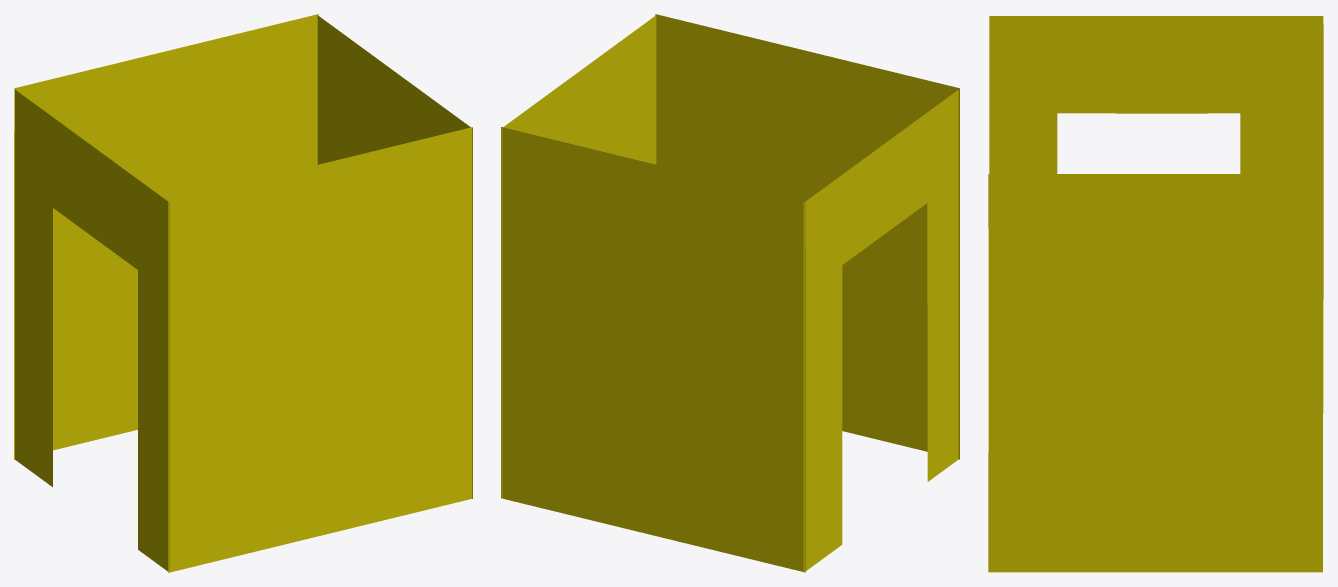
3 views of the same model, side by side, from view 1: azimuth 30°, elevation 25°; view 2: azimuth 150°, elevation 25°; view 3: azimuth 270°, elevation 25° (orthographic). The views are drawn at different scales.
Parts seen in each view (by area): view 1: BH05B_WP_02; view 2: BH05B_WP_02; view 3: BH05B_WP_02.
Boxes of the visible parts, x1,y1,x2,y2 form: BH05B_WP_02: (14,14,472,572); BH05B_WP_02: (501,14,959,572); BH05B_WP_02: (988,16,1323,572).
Size of the model in its own units: 252 by 294 by 223.
